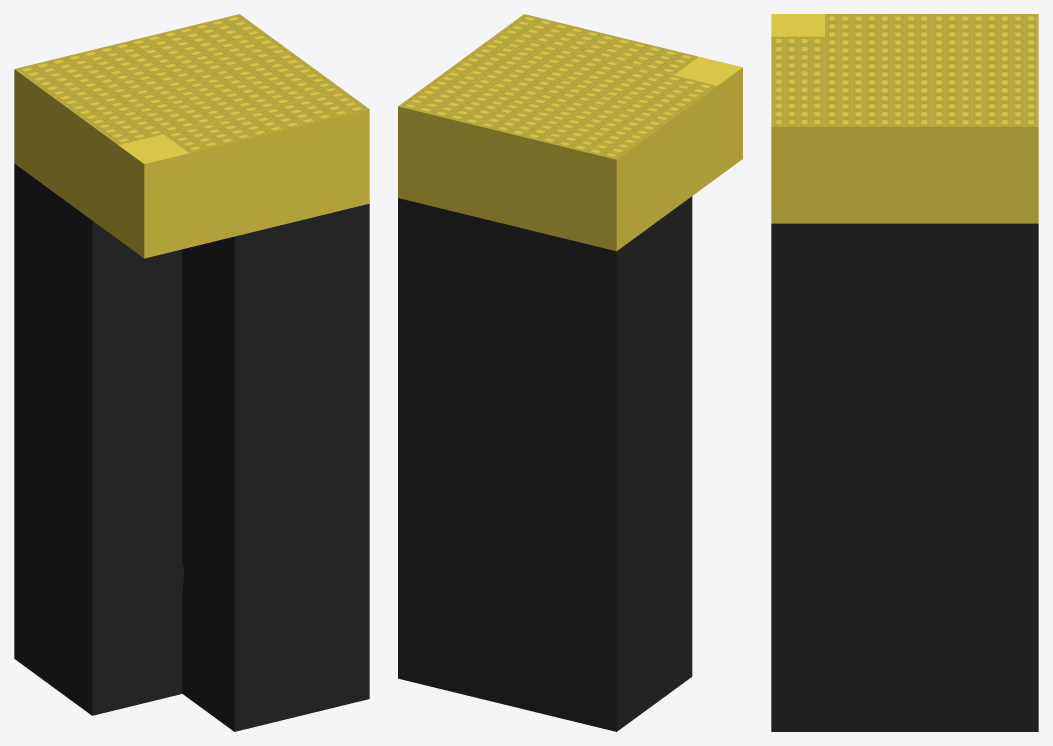
The model's file is SW_ENV_PlatformEdge_A_Crnr_Inner.fbx.
3 renders of one model, left to right at view 1: azimuth 30°, elevation 25°; view 2: azimuth 150°, elevation 25°; view 3: azimuth 270°, elevation 25°, orthographic. The views are drawn at different scales.
Visible parts, largest first — view 1: SW_ENV_PlatformEdge_A_Crnr_Inner; view 2: SW_ENV_PlatformEdge_A_Crnr_Inner; view 3: SW_ENV_PlatformEdge_A_Crnr_Inner.
Part boxes in pixels (left/top/right/bottom): SW_ENV_PlatformEdge_A_Crnr_Inner: left=14, top=14, right=369, bottom=731; SW_ENV_PlatformEdge_A_Crnr_Inner: left=398, top=14, right=742, bottom=731; SW_ENV_PlatformEdge_A_Crnr_Inner: left=771, top=14, right=1038, bottom=731.
Size of the model in its own units: 50 by 125 by 50.
